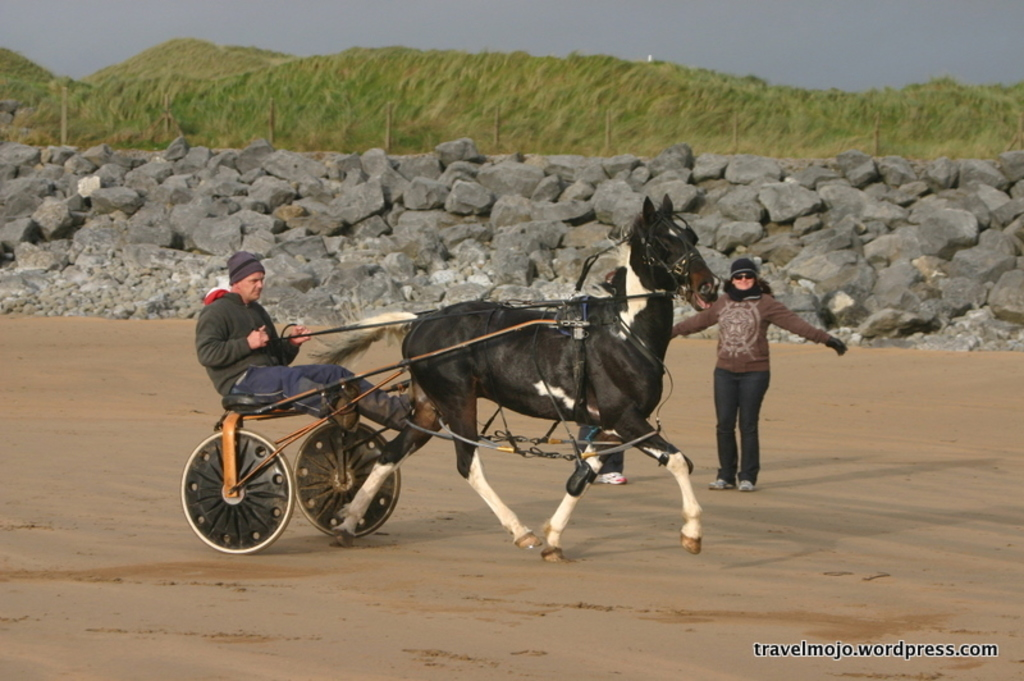horse: (304, 192, 722, 563)
